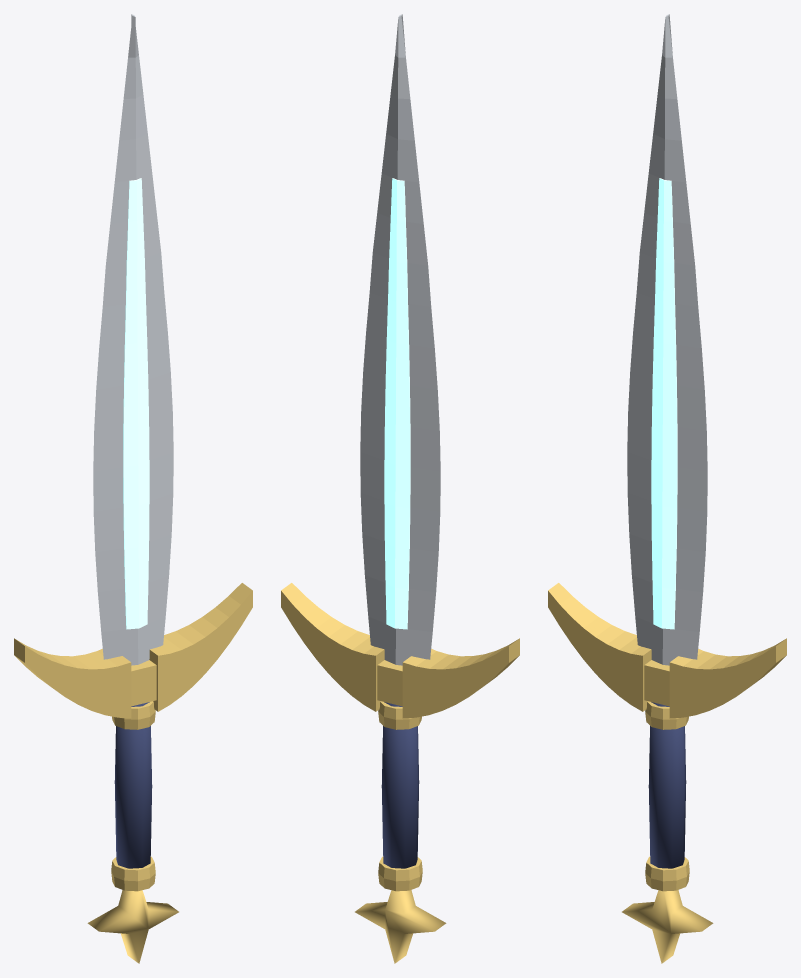
File: Starforged_Blade.fbx
The picture shows the model from 3 angles, left to right: view 1: azimuth 30°, elevation 25°; view 2: azimuth 150°, elevation 25°; view 3: azimuth 330°, elevation 25°; orthographic projection.
Parts seen in each view (by area): view 1: Starforged_Blade_Blade, Starforged_Blade_Guard, Starforged_Blade_Glow, Starforged_Blade_Grip, Starforged_Blade_Pommel, Starforged_Blade_Ring; view 2: Starforged_Blade_Blade, Starforged_Blade_Guard, Starforged_Blade_Glow, Starforged_Blade_Grip, Starforged_Blade_Pommel, Starforged_Blade_Ring; view 3: Starforged_Blade_Blade, Starforged_Blade_Guard, Starforged_Blade_Glow, Starforged_Blade_Grip, Starforged_Blade_Pommel, Starforged_Blade_Ring.
Boxes of the visible parts, x1,y1,x2,y2 form: Starforged_Blade_Blade: [93, 14, 173, 665]; Starforged_Blade_Guard: [14, 583, 252, 718]; Starforged_Blade_Glow: [123, 178, 149, 629]; Starforged_Blade_Grip: [114, 702, 152, 868]; Starforged_Blade_Pommel: [87, 890, 178, 963]; Starforged_Blade_Ring: [111, 701, 155, 891]; Starforged_Blade_Blade: [360, 14, 440, 665]; Starforged_Blade_Guard: [281, 583, 519, 718]; Starforged_Blade_Glow: [384, 178, 410, 629]; Starforged_Blade_Grip: [381, 702, 419, 868]; Starforged_Blade_Pommel: [355, 890, 446, 963]; Starforged_Blade_Ring: [378, 701, 422, 891]; Starforged_Blade_Blade: [627, 14, 707, 665]; Starforged_Blade_Guard: [548, 583, 786, 718]; Starforged_Blade_Glow: [651, 178, 677, 629]; Starforged_Blade_Grip: [648, 702, 686, 868]; Starforged_Blade_Pommel: [622, 890, 713, 963]; Starforged_Blade_Ring: [645, 701, 689, 891].
Size of the model in its own units: 68 by 269 by 11.6.
